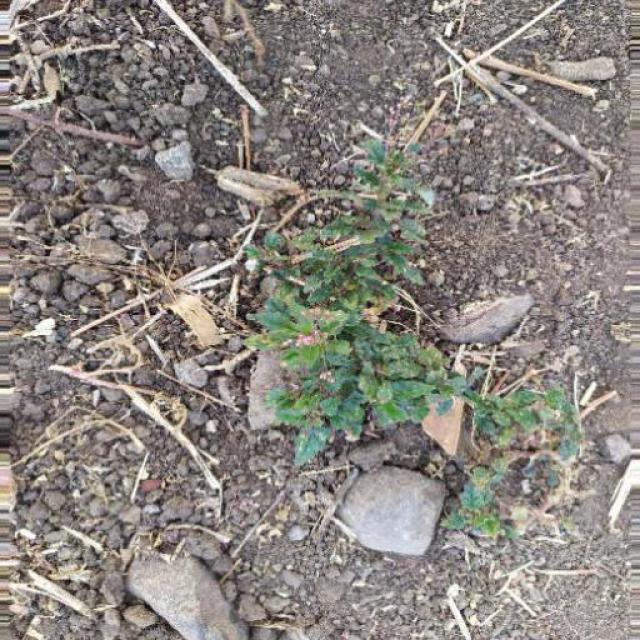weed: (226, 148, 556, 538)
